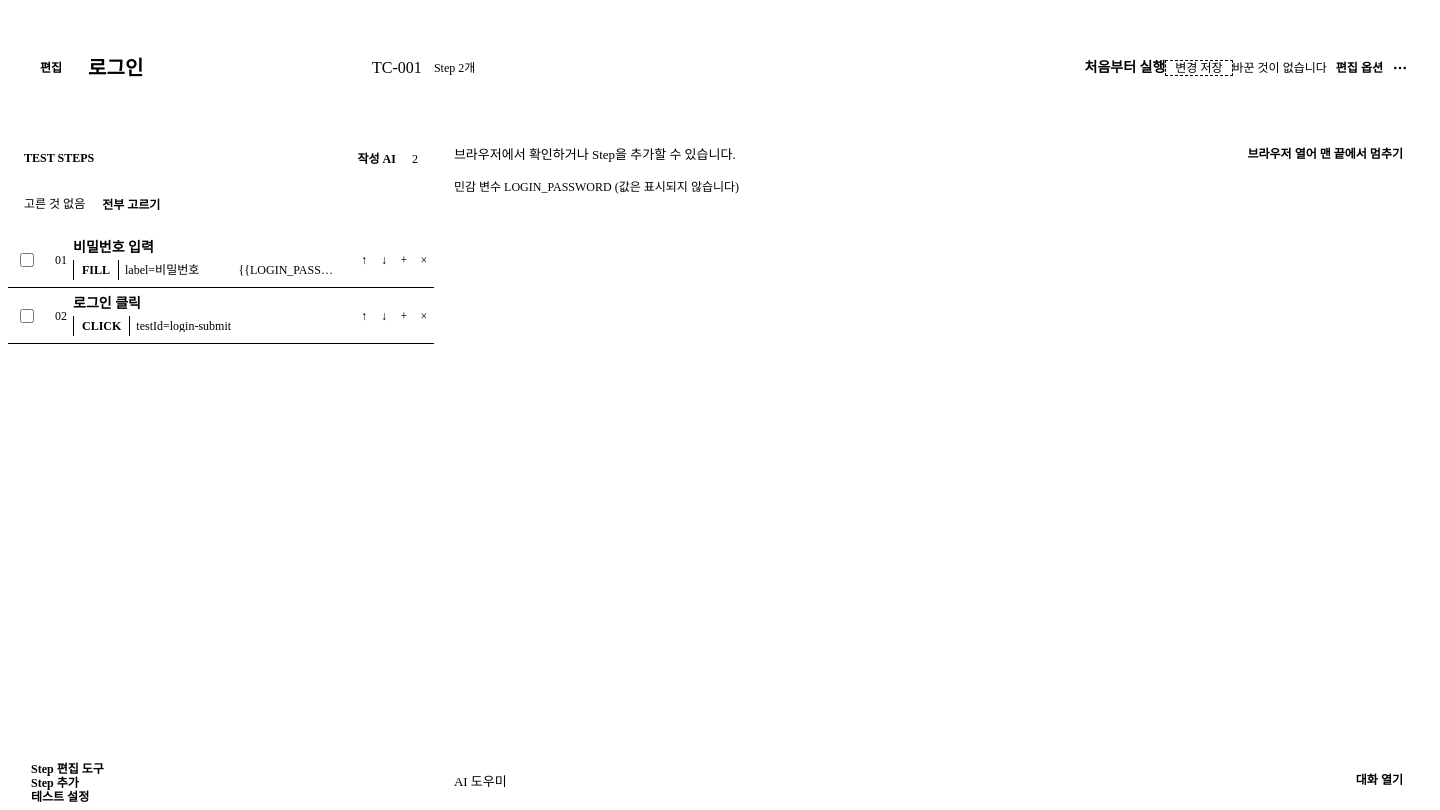
Test: 편집 화면 — 브라우저 없이 (US1) › Step 을 고르면 후보 우선순위 표를 보여 준다 (FR-019)
Expected: the button "비밀번호 입력" is shown, [73,239,336,257]
Click the button "로그인 클릭" at point(107, 304), box [73,295,336,313]
(page scrolled)
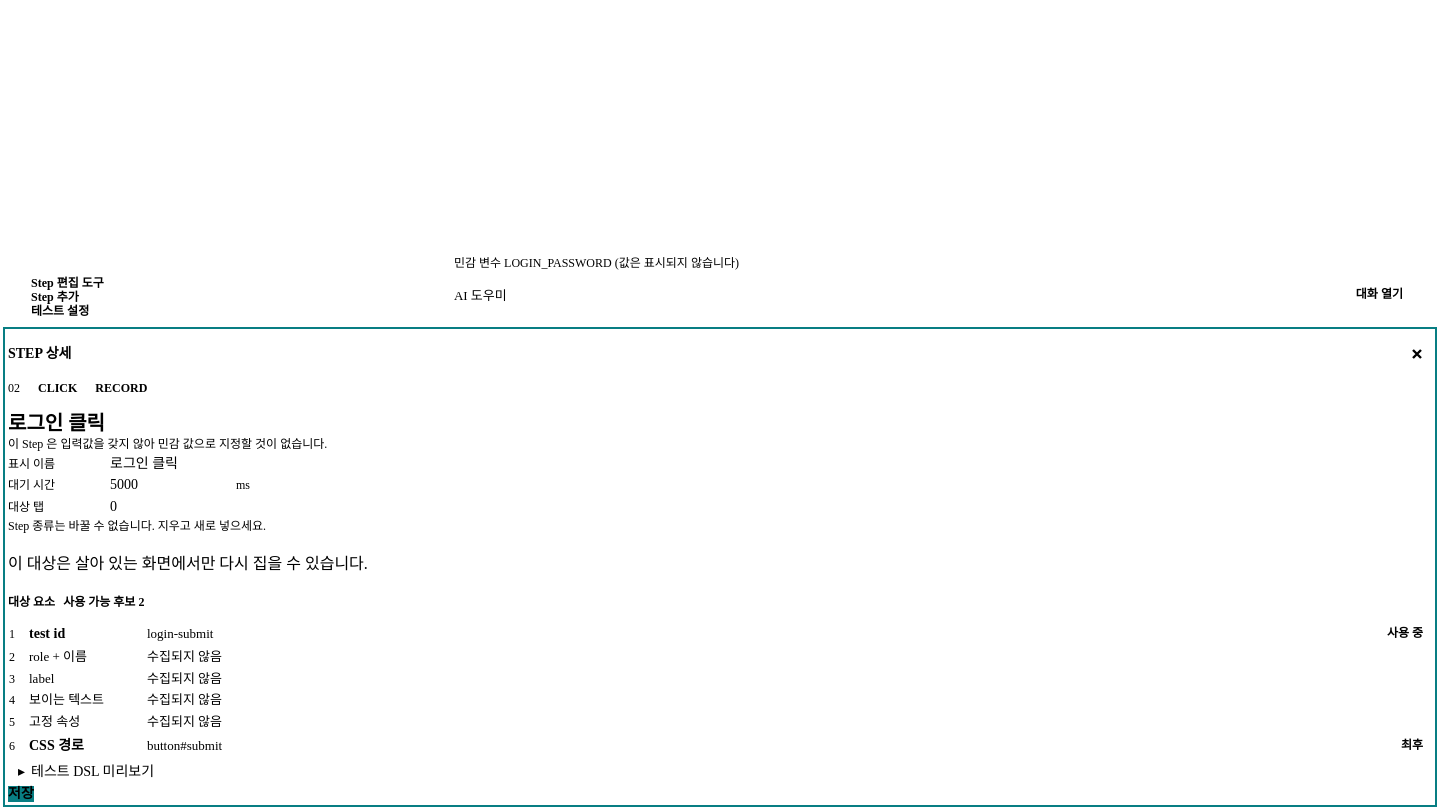
Now the text "login-submit" is shown, box [147,626,214,641]
Now the text "사용 중" is shown, box [1387,626,1423,640]
